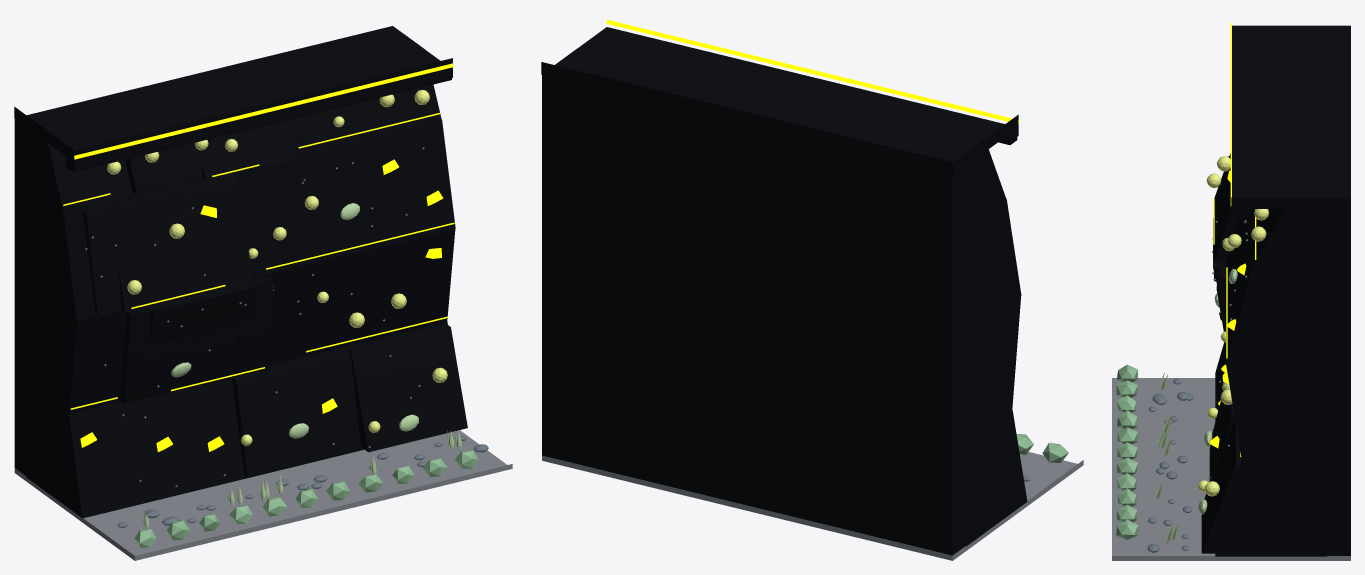
File: tt_plinth_skirt_terrace.glb
3 renders of one model, left to right at view 1: azimuth 30°, elevation 25°; view 2: azimuth 150°, elevation 25°; view 3: azimuth 270°, elevation 25°, orthographic. The views are drawn at different scales.
Visible parts, largest first — view 1: Course2_Facets, Course0_Facets, Course1_Facets, Course3_Facets, Cap_Course, Base_Mat, Skirt_Core, Moss_Edge, Tennis_Ball_Holds, Seam_Tape, Cap_Court_Line, Jug_Holds (+4 smaller); view 2: Skirt_Core, Cap_Course, Course3_Facets, Course0_Facets, Course1_Facets, Course2_Facets, Base_Mat, Cap_Court_Line; view 3: Cap_Course, Base_Mat, Course0_Facets, Course2_Facets, Course3_Facets, Course1_Facets, Skirt_Core, Moss_Edge, Tennis_Ball_Holds, River_Stones, Grass_Tufts, Sloper_Holds (+3 smaller).
Part boxes in pixels (<box>): Course2_Facets: <box>26,119,455,321</box>; Course0_Facets: <box>26,322,467,518</box>; Course1_Facets: <box>26,228,455,413</box>; Course3_Facets: <box>26,34,441,211</box>; Cap_Course: <box>14,26,452,169</box>; Base_Mat: <box>14,430,512,560</box>; Skirt_Core: <box>14,119,26,475</box>; Moss_Edge: <box>134,450,478,547</box>; Tennis_Ball_Holds: <box>107,89,447,445</box>; Seam_Tape: <box>63,113,454,409</box>; Cap_Court_Line: <box>74,63,453,159</box>; Jug_Holds: <box>80,159,442,452</box>; Skirt_Core: <box>542,74,965,555</box>; Cap_Course: <box>541,27,1018,174</box>; Course3_Facets: <box>555,48,1005,228</box>; Course0_Facets: <box>965,410,1027,546</box>; Course1_Facets: <box>965,296,1020,443</box>; Course2_Facets: <box>965,198,1021,336</box>; Base_Mat: <box>542,452,1083,560</box>; Cap_Court_Line: <box>606,19,1018,123</box>; Cap_Course: <box>1231,25,1350,216</box>; Base_Mat: <box>1112,378,1350,560</box>; Course0_Facets: <box>1201,342,1327,556</box>; Course2_Facets: <box>1214,153,1327,364</box>; Course3_Facets: <box>1253,25,1327,265</box>; Course1_Facets: <box>1213,218,1327,462</box>; Skirt_Core: <box>1327,209,1350,555</box>; Moss_Edge: <box>1116,364,1138,539</box>; Tennis_Ball_Holds: <box>1198,156,1269,496</box>; River_Stones: <box>1147,378,1193,552</box>; Grass_Tufts: <box>1155,372,1179,543</box>; Sloper_Holds: <box>1198,269,1237,514</box>.
Size of what is drawn, in the model's own units: 4 by 3.7 by 2.2.
Materials: 8 (3 with a texture image).
